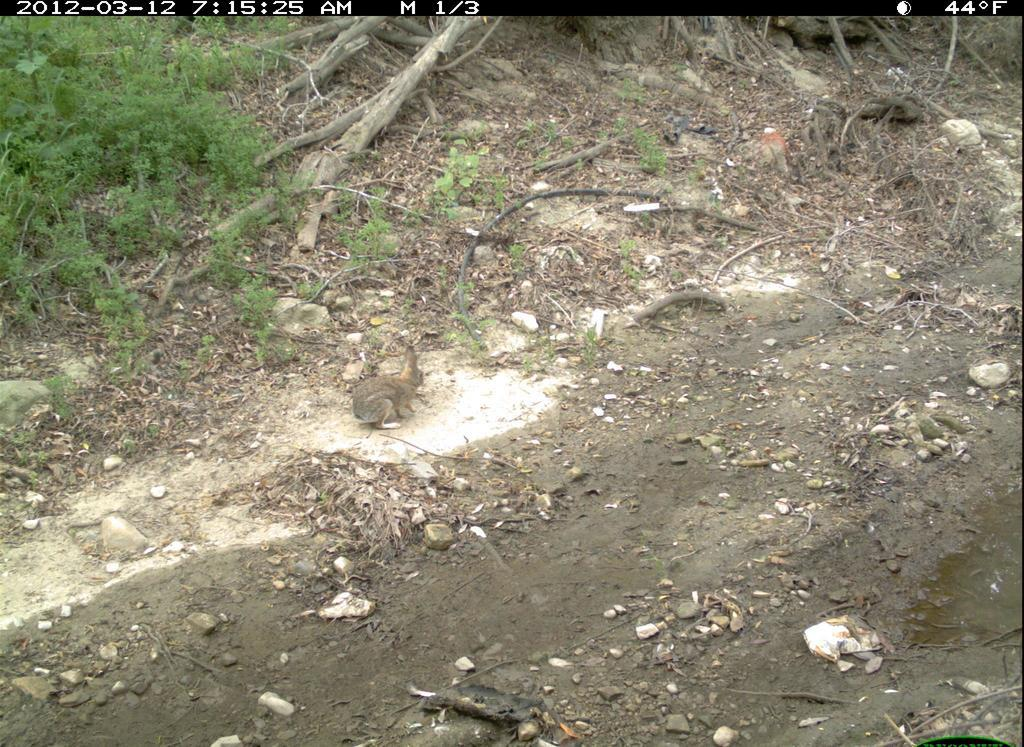rabbit: (350, 344, 431, 434)
